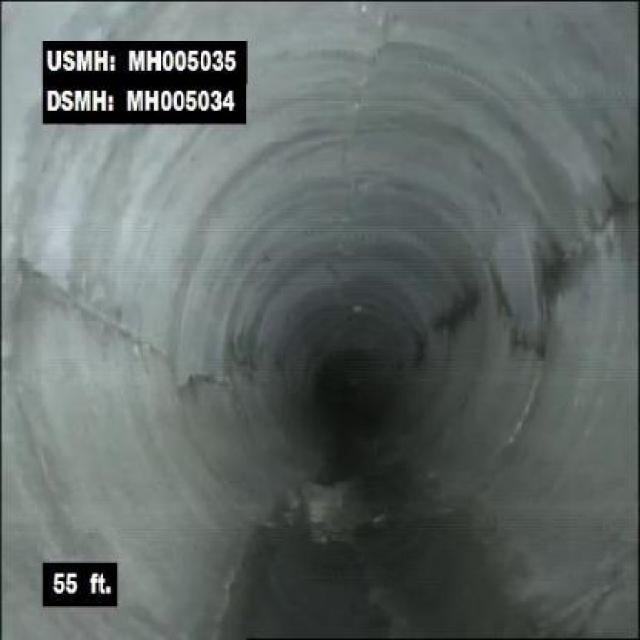Buckling: (340, 5, 406, 69)
Crack: (23, 258, 180, 371), (572, 182, 638, 250), (343, 70, 379, 158)
Debris: (282, 472, 360, 532)
